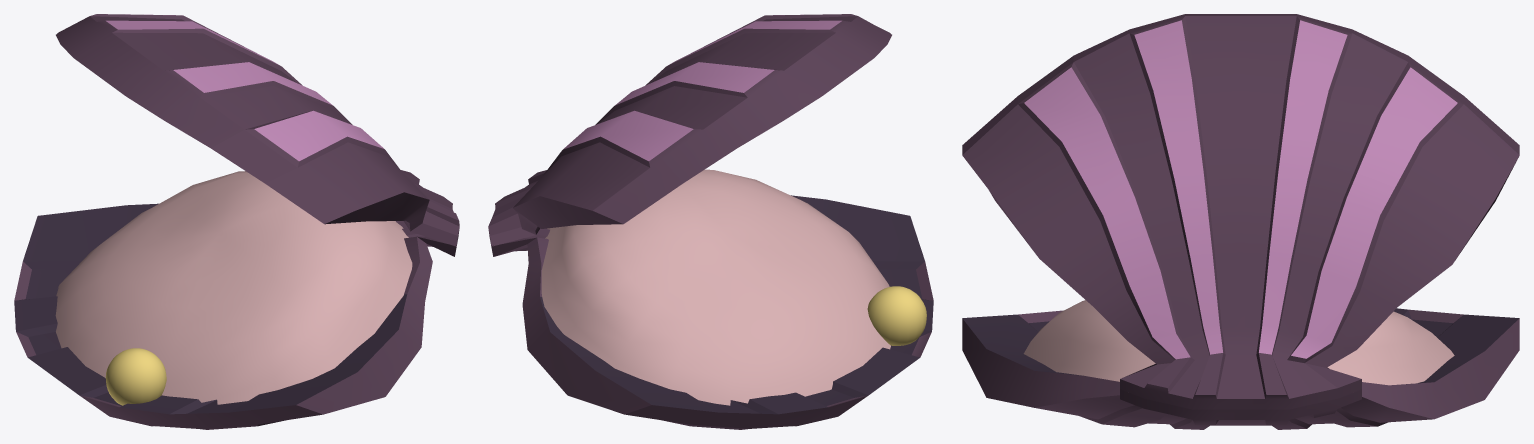
File: Clam.fbx
The picture shows the model from 3 angles, left to right: view 1: azimuth 30°, elevation 25°; view 2: azimuth 150°, elevation 25°; view 3: azimuth 270°, elevation 25°; orthographic projection. The views are drawn at different scales.
Visible parts, largest first — view 1: pSphere1, clam_top, clam_bottom, pSphere2; view 2: pSphere1, clam_top, clam_bottom, pSphere2; view 3: clam_top, clam_bottom, pSphere1.
Boxes of the visible parts, bbox=[...] form: pSphere1: bbox=[55, 171, 412, 404]; clam_top: bbox=[56, 14, 459, 246]; clam_bottom: bbox=[14, 203, 457, 429]; pSphere2: bbox=[105, 348, 166, 405]; pSphere1: bbox=[541, 169, 890, 405]; clam_top: bbox=[488, 14, 891, 246]; clam_bottom: bbox=[491, 195, 933, 429]; pSphere2: bbox=[867, 286, 926, 345]; clam_top: bbox=[962, 14, 1519, 409]; clam_bottom: bbox=[962, 308, 1519, 429]; pSphere1: bbox=[1023, 300, 1454, 385].
Size of the model in its own units: 6.42 by 5.66 by 7.6.
